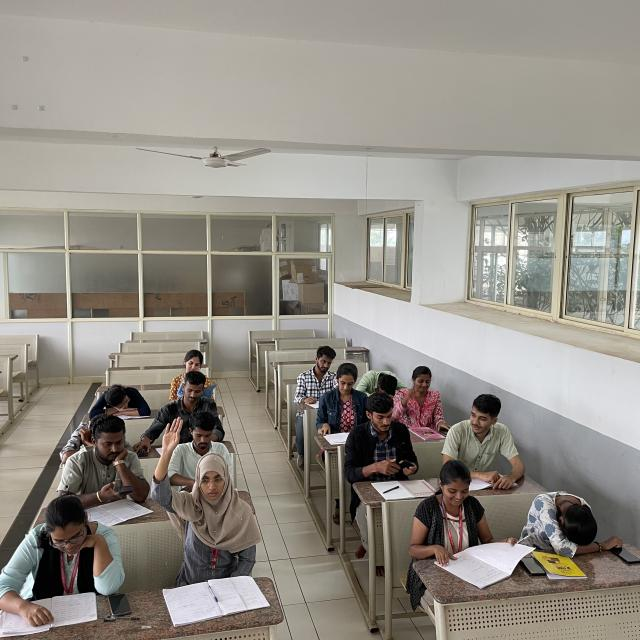Hand Rising: (153, 411, 252, 583)
Reading: (5, 493, 114, 618), (416, 458, 517, 572), (287, 343, 341, 415), (164, 346, 219, 400)
Sleeping: (522, 482, 604, 548), (84, 380, 150, 420)
Using Phone: (61, 413, 146, 507), (349, 396, 422, 483)
